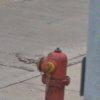Hydrant: (28, 42, 67, 100)
